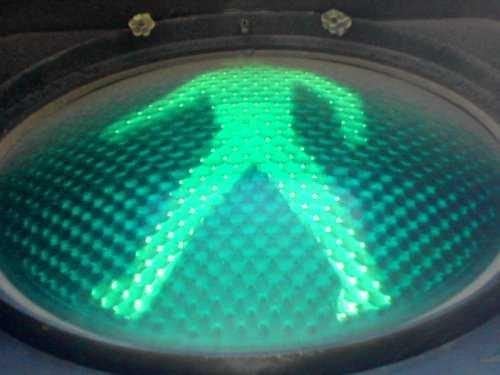green: (1, 14, 500, 375)
